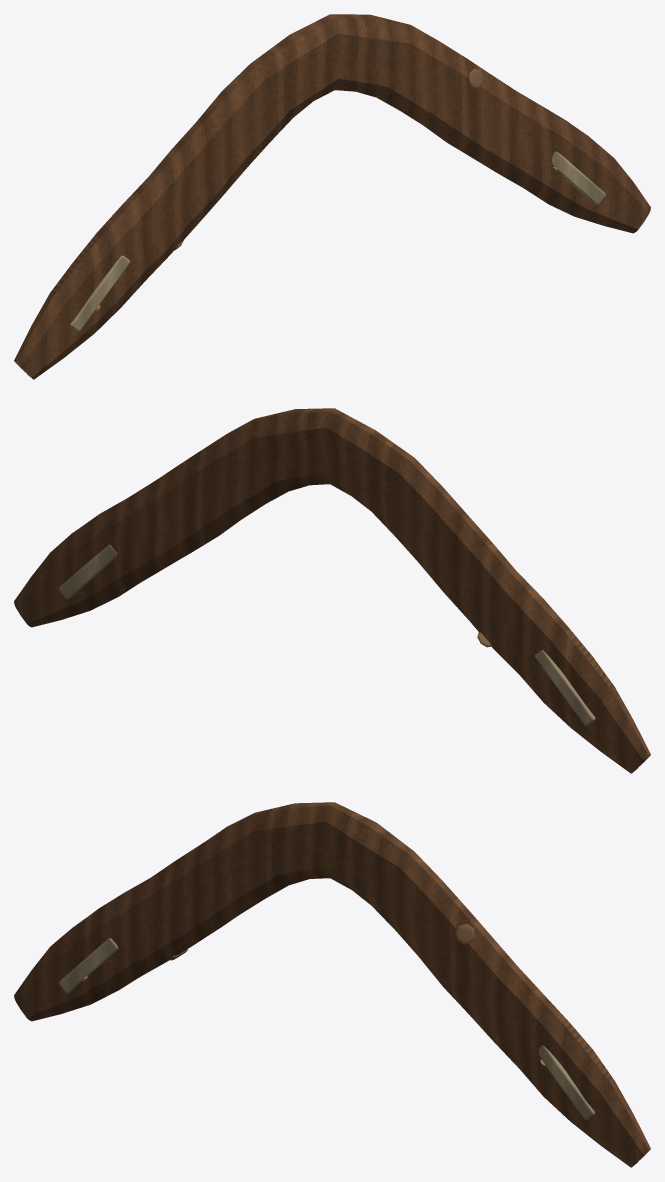
The model's file is boomerang.lod1.glb.
3 views of the same model, one above another, from view 1: azimuth 30°, elevation 25°; view 2: azimuth 150°, elevation 25°; view 3: azimuth 330°, elevation 25° (orthographic).
Visible parts, largest first — view 1: wood / oiled hardwood, horn / polished horn and bone; view 2: wood / oiled hardwood, horn / polished horn and bone; view 3: wood / oiled hardwood, horn / polished horn and bone.
Boxes of the visible parts, bbox=[...] form: wood / oiled hardwood: bbox=[14, 14, 650, 379]; horn / polished horn and bone: bbox=[70, 151, 605, 331]; wood / oiled hardwood: bbox=[14, 408, 650, 773]; horn / polished horn and bone: bbox=[59, 544, 595, 725]; wood / oiled hardwood: bbox=[14, 802, 650, 1167]; horn / polished horn and bone: bbox=[59, 938, 595, 1119].
Bounding box in the file's own units: 0.5771 × 0.2522 × 0.0238.
4 materials, 2 textured.
